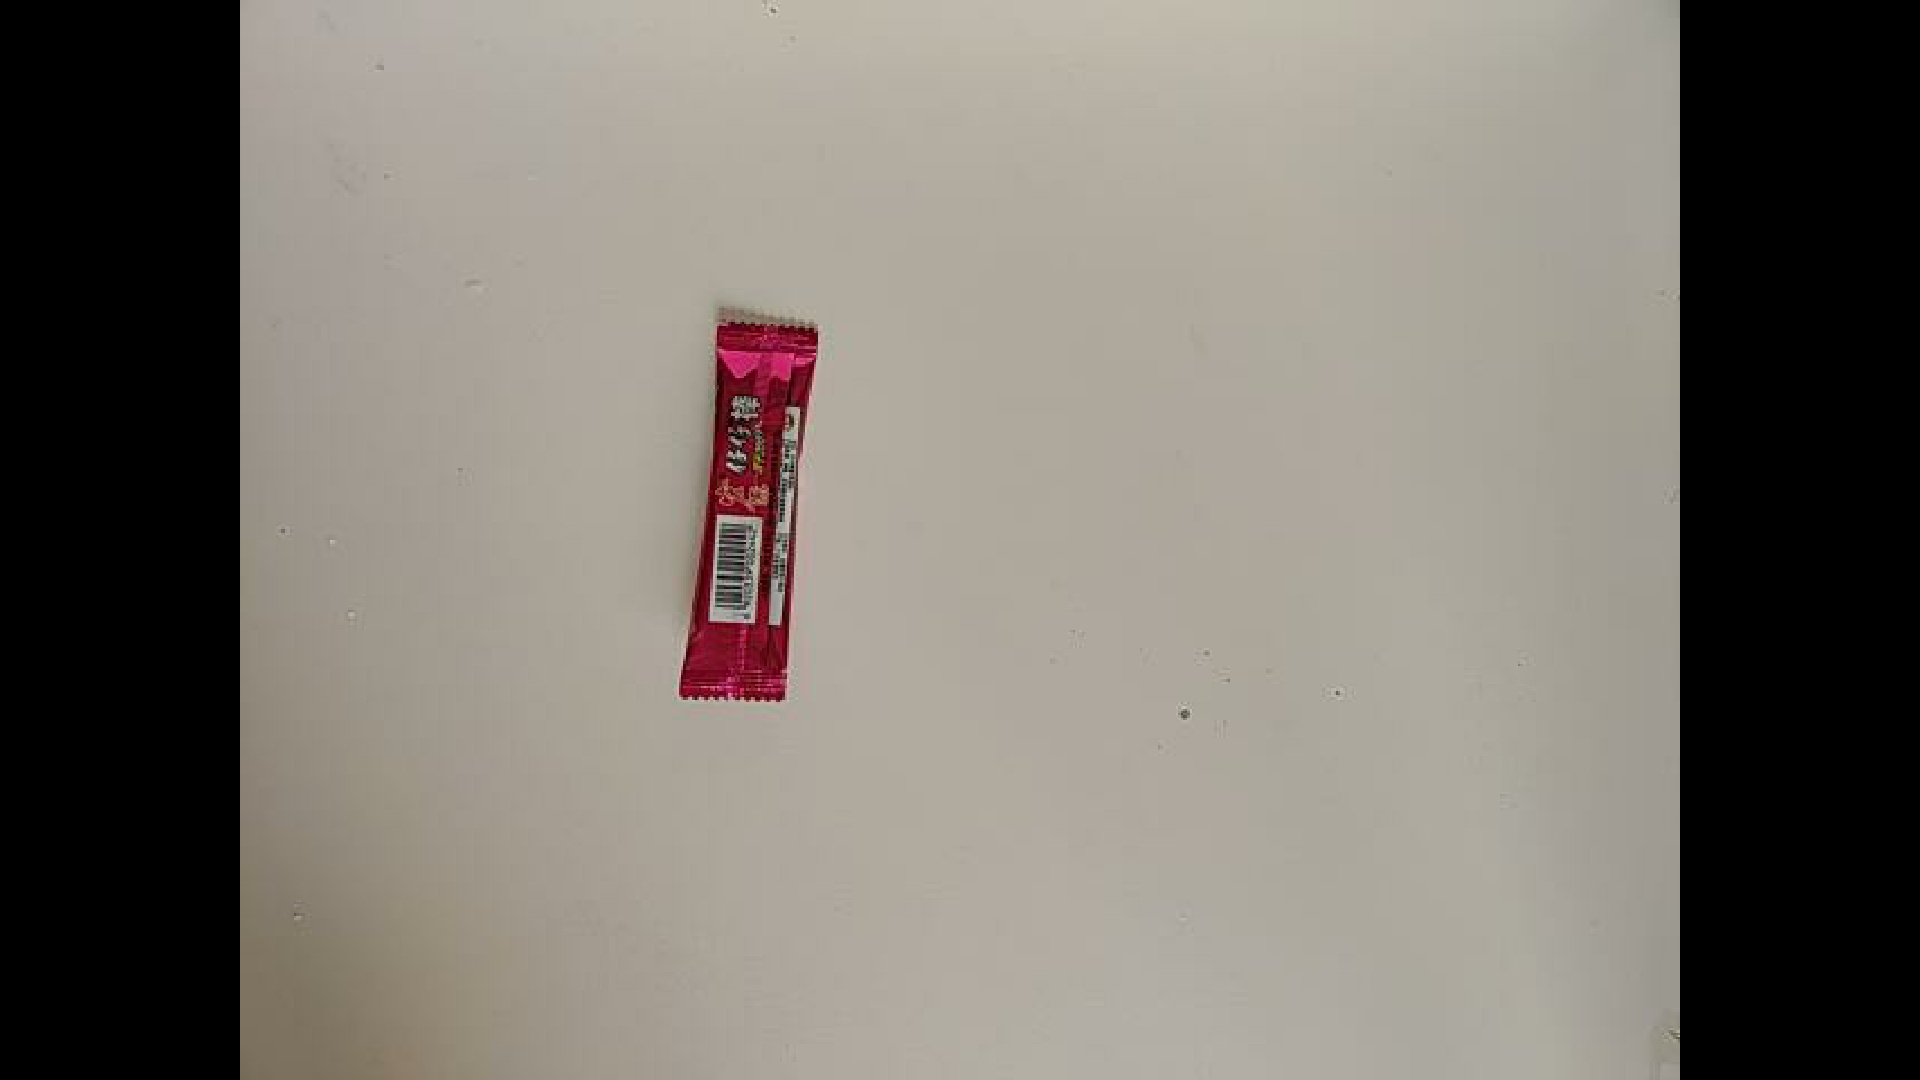sugar: (659, 318, 822, 704)
